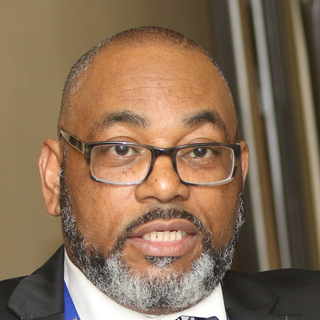eye: (96, 139, 143, 162), (181, 141, 223, 165)
